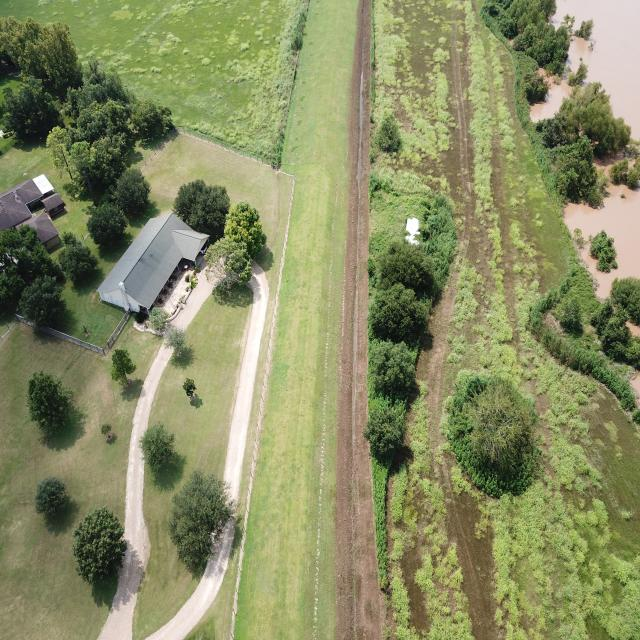fire: (554, 0, 640, 139), (565, 185, 640, 299), (532, 80, 572, 120)
